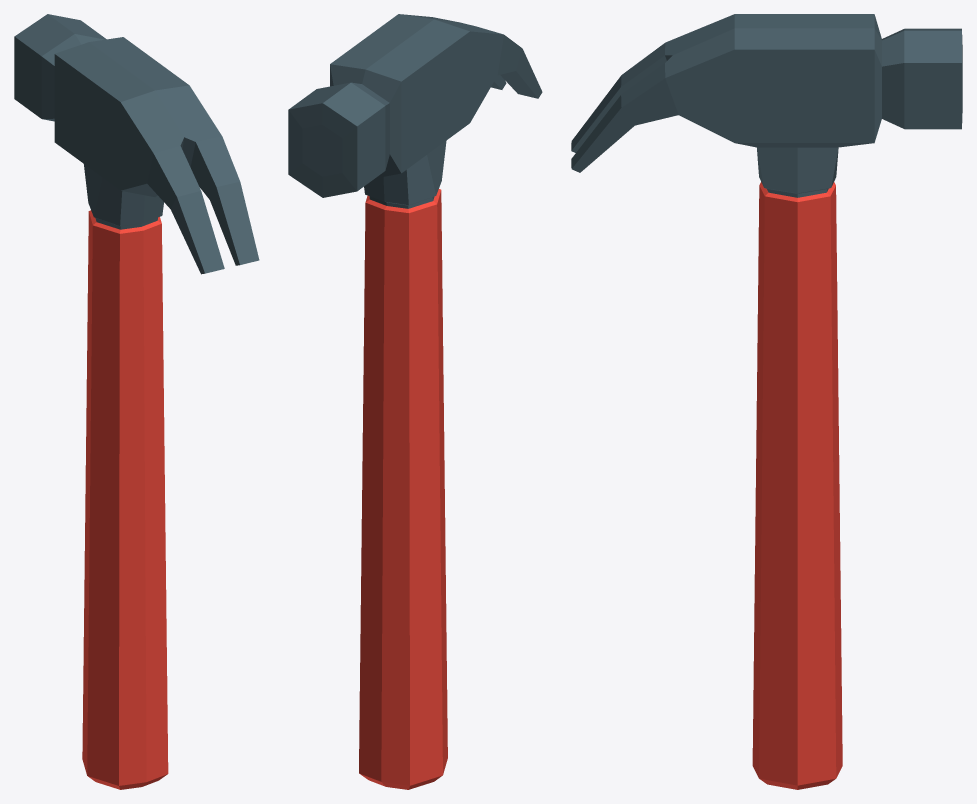
The model's file is Hammer_01.gltf.
3 renders of one model, left to right at view 1: azimuth 30°, elevation 25°; view 2: azimuth 150°, elevation 25°; view 3: azimuth 270°, elevation 25°, orthographic. The views are drawn at different scales.
Parts seen in each view (by area): view 1: node-0; view 2: node-0; view 3: node-0.
Part boxes in pixels (x1,y1,x2,y2): node-0: [14, 14, 259, 789]; node-0: [288, 14, 542, 789]; node-0: [571, 14, 962, 789].
Bounding box in the file's own units: 1.15 × 10.17 × 4.83.
